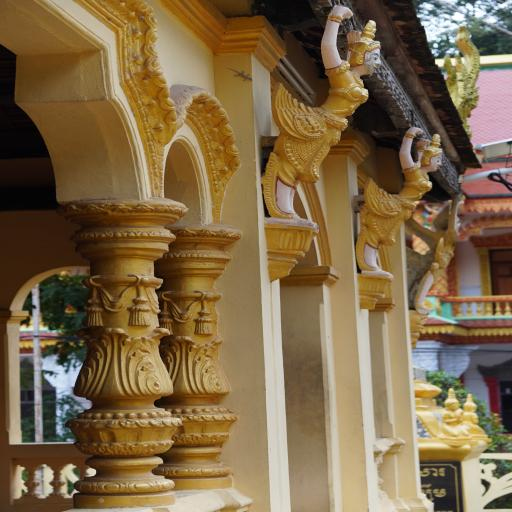ran: (435, 18, 504, 118)
than: (255, 10, 394, 231), (339, 119, 425, 283), (430, 194, 472, 312), (425, 385, 471, 439), (457, 386, 488, 439)
